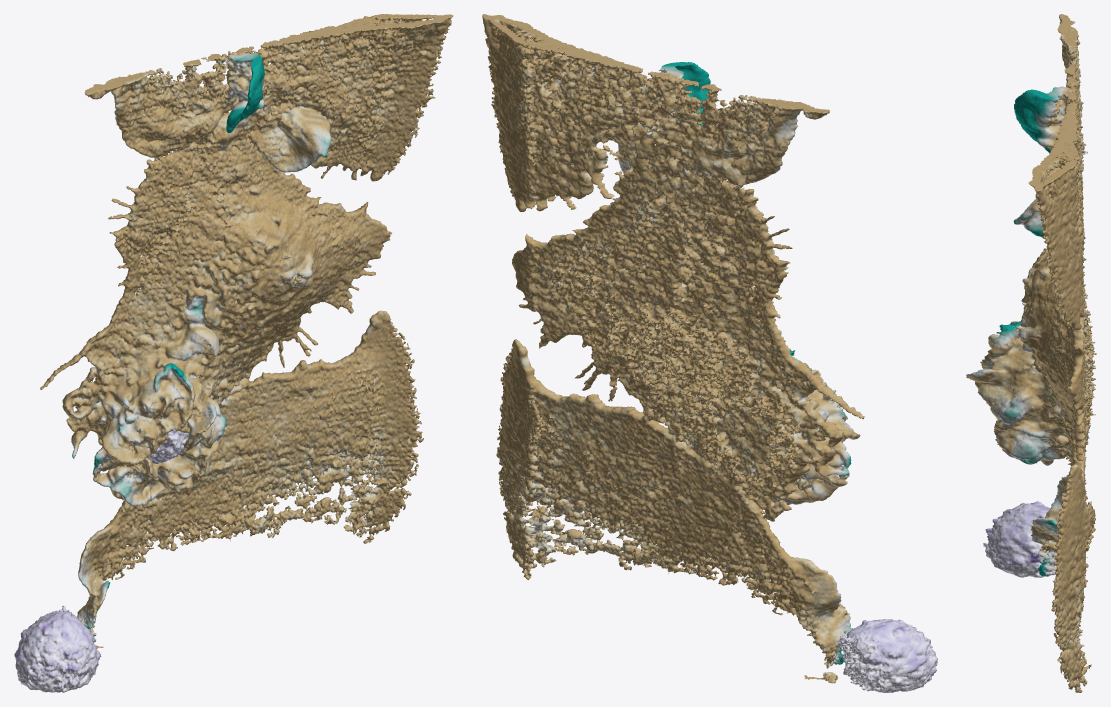
File: Surfaces_11.glb
The picture shows the model from 3 angles, left to right: view 1: azimuth 30°, elevation 25°; view 2: azimuth 150°, elevation 25°; view 3: azimuth 270°, elevation 25°; orthographic projection.
Visible parts, largest first — view 1: surface (×2); view 2: surface (×2); view 3: surface (×2).
Boxes of the visible parts, <box> form: surface (×2): <box>14,14,453,692</box>; surface (×2): <box>482,14,937,692</box>; surface (×2): <box>966,14,1096,692</box>.
Bounding box in the file's own units: 624 × 764 × 159.
